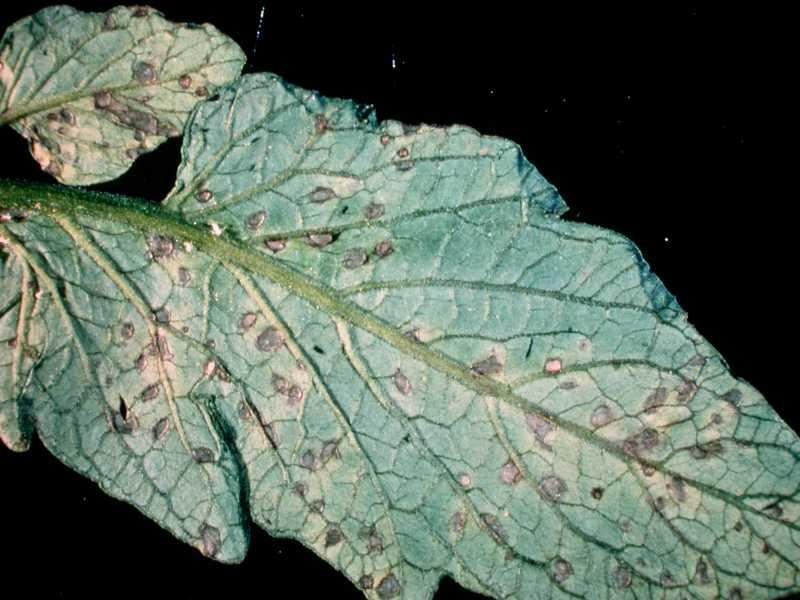Tomato Septoria leaf spot: (14, 39, 799, 591), (4, 12, 249, 186)
